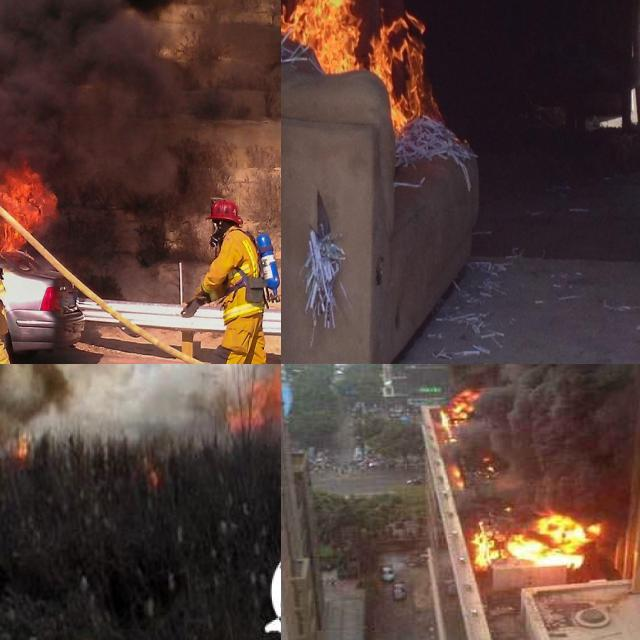fire: (281, 0, 436, 137), (465, 510, 590, 573), (0, 162, 55, 291), (434, 385, 484, 439)
smoke: (0, 0, 281, 221), (390, 364, 640, 509), (0, 364, 281, 431)
